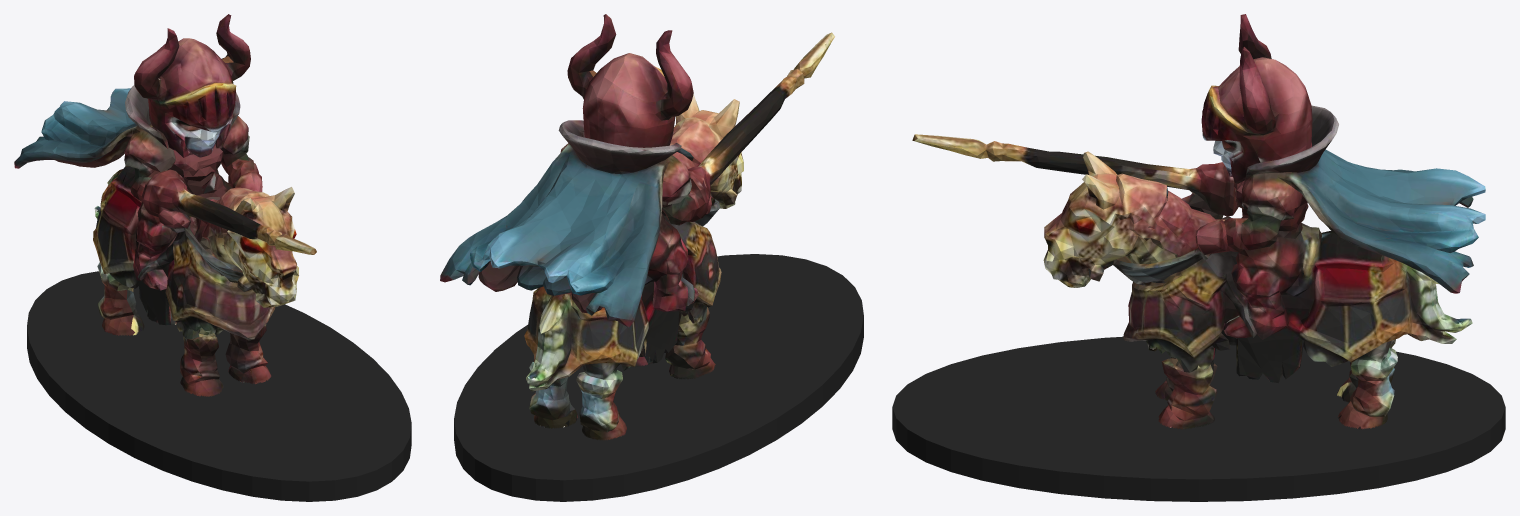
The model's file is sbg-blood-knight.glb.
3 views of the same model, side by side, from view 1: azimuth 30°, elevation 25°; view 2: azimuth 150°, elevation 25°; view 3: azimuth 270°, elevation 25° (orthographic). The views are drawn at different scales.
Visible parts, largest first — view 1: figure, base; view 2: figure, base; view 3: figure, base.
Boxes of the visible parts, x1,y1,x2,y2 form: figure: (14,14,316,396); base: (27,271,411,501); figure: (440,14,834,440); base: (454,254,863,501); figure: (912,14,1485,429); base: (892,336,1505,501).
Size of the model in its own units: 1.65 by 2.12 by 2.95.
Materials: 2 (1 with a texture image).
